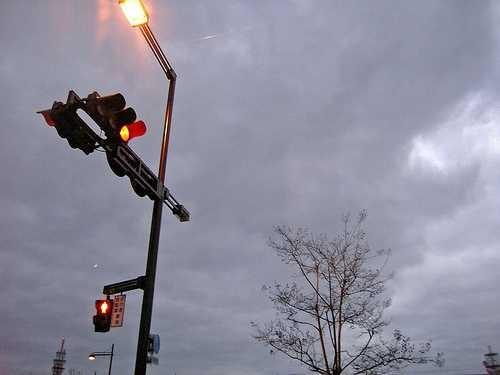red: (89, 88, 147, 146), (92, 294, 112, 333), (92, 297, 113, 314)
